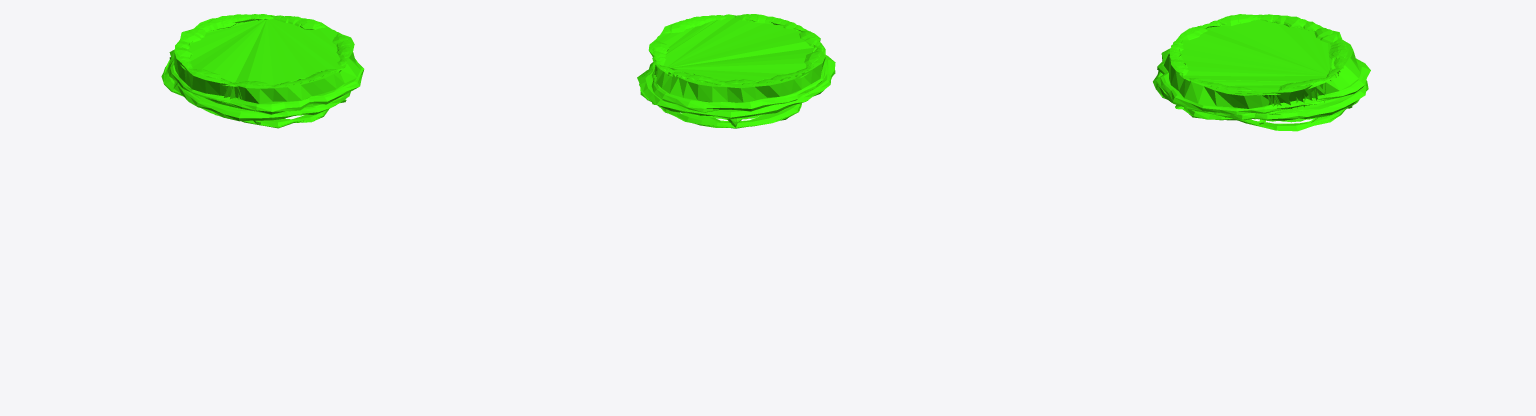
The model's file is crush_high_0.obj.
3 renders of one model, left to right at view 1: azimuth 30°, elevation 25°; view 2: azimuth 150°, elevation 25°; view 3: azimuth 270°, elevation 25°, orthographic. The views are drawn at different scales.
Parts seen in each view (by area): view 1: model; view 2: model; view 3: model.
Part boxes in pixels (x1,y1,x2,y2): model: (161,14,364,128); model: (637,14,835,128); model: (1153,14,1370,131).
Size of the model in its own units: 0.1181 by 0.0738 by 0.1212.
Materials: 1 (1 with a texture image).
